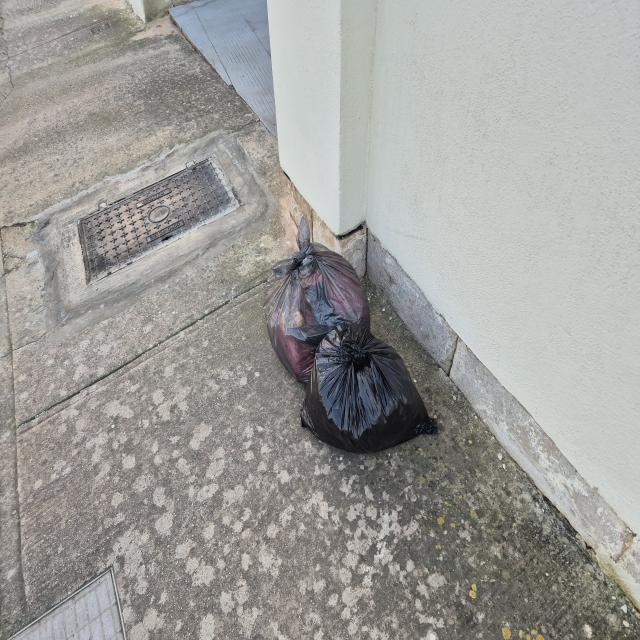black_bag: (306, 316, 460, 466), (266, 198, 368, 374)
